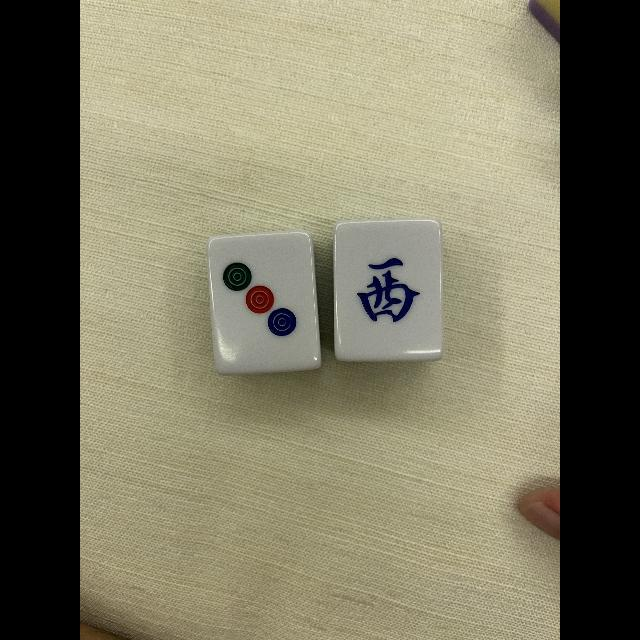d3: (211, 234, 317, 370)
ww: (334, 223, 440, 359)
